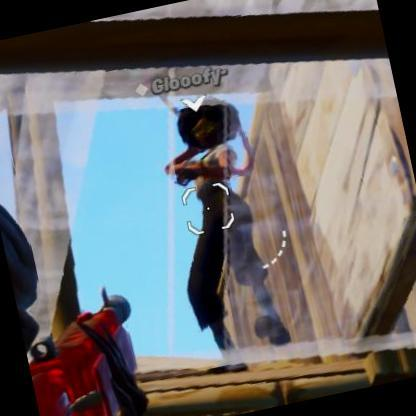person: (160, 81, 280, 340)
